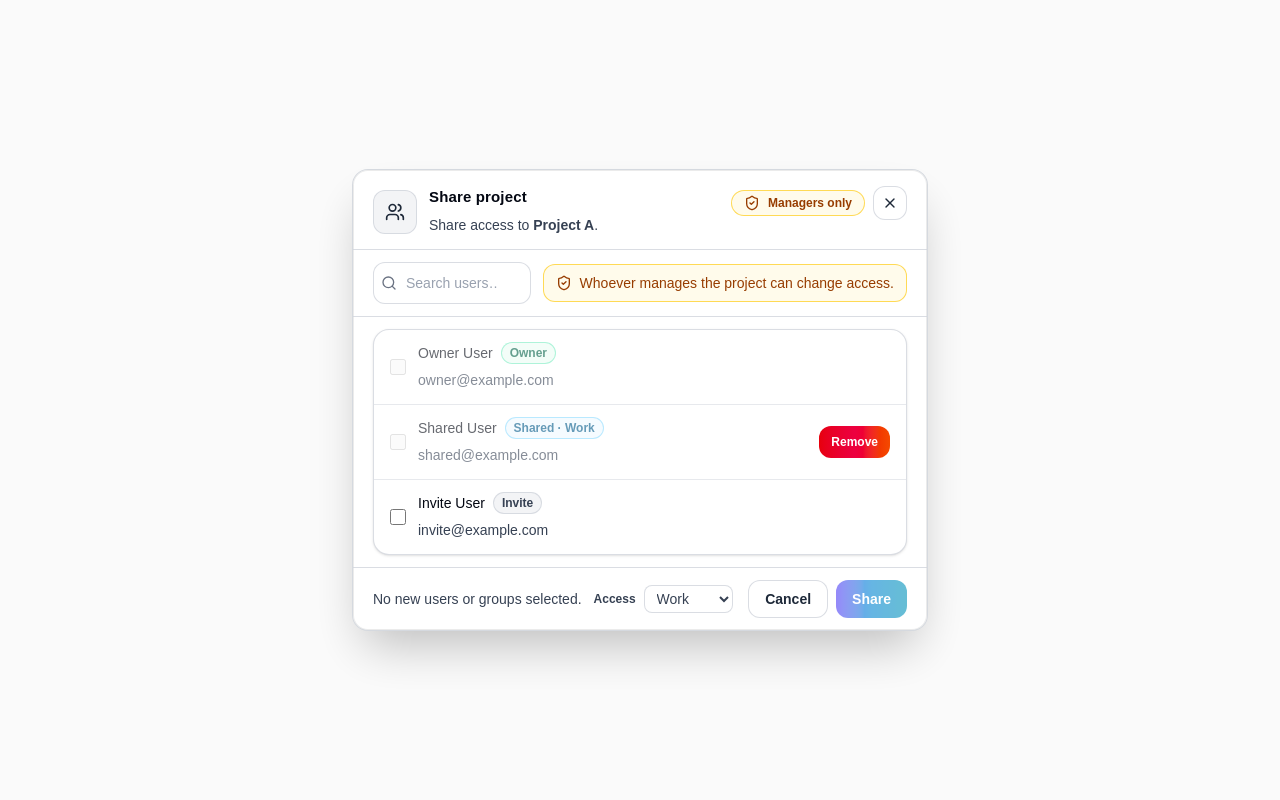
Scenario: ShareProjectModal › filters users by the search field
Expected: the text "Invite User" is shown, [418, 493, 485, 513]
Type "invite@" into the field with placeholder "Search users…" at {"x": 452, "y": 283}, box [373, 262, 531, 304]
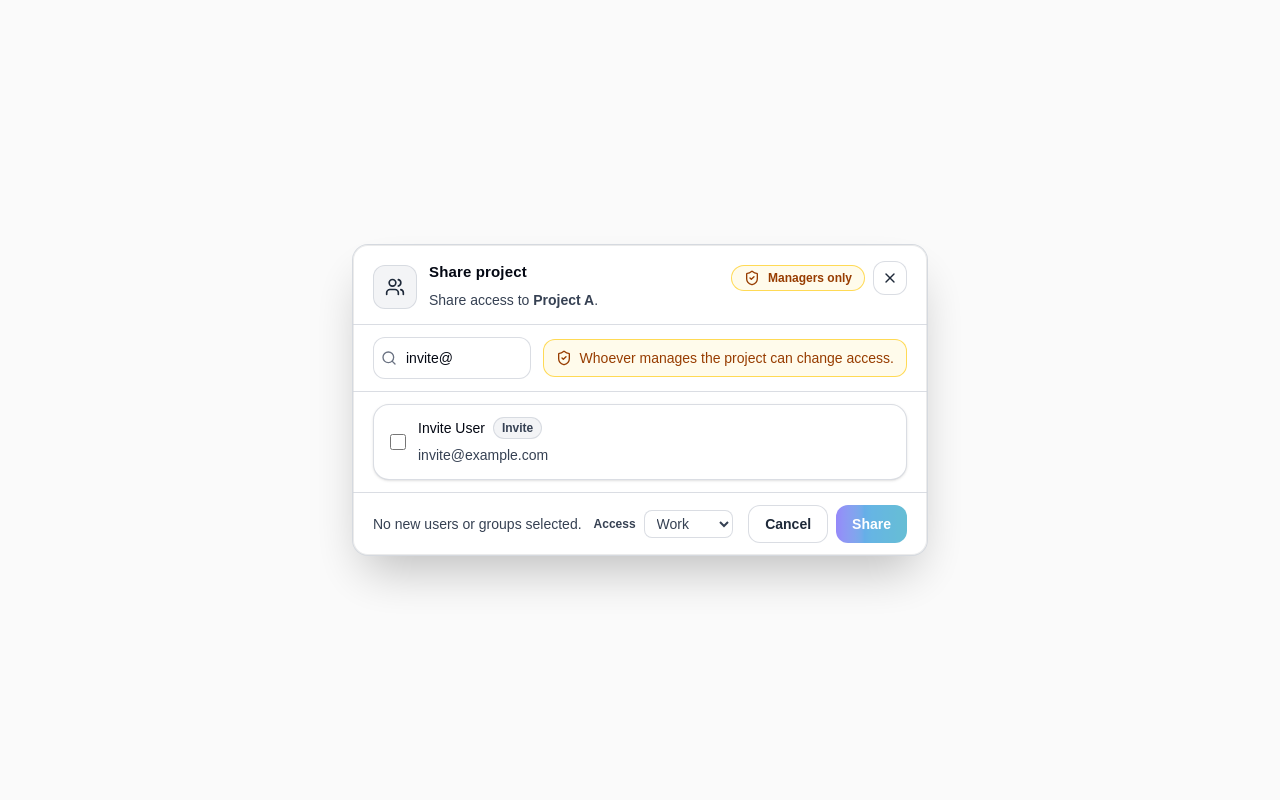
Expected: the text "Invite User" is shown, [418, 418, 485, 438]
Now the text "Owner User" is gone
Now the text "Shared User" is gone
